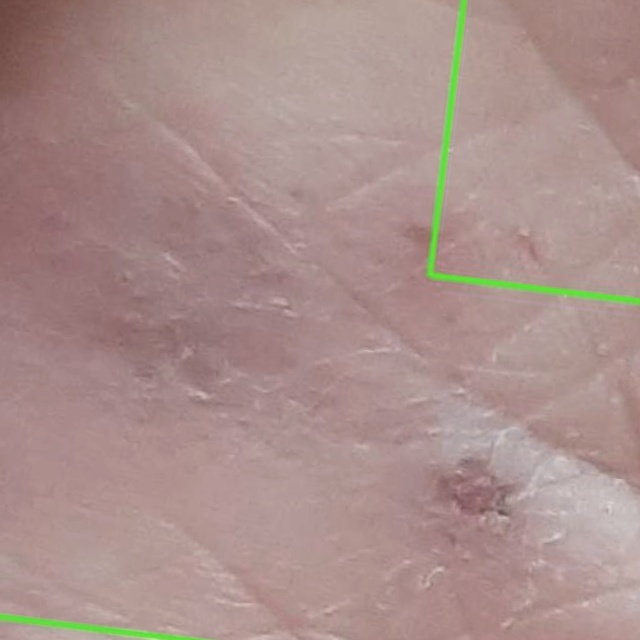Contact Dermatitis: (430, 0, 639, 301)
